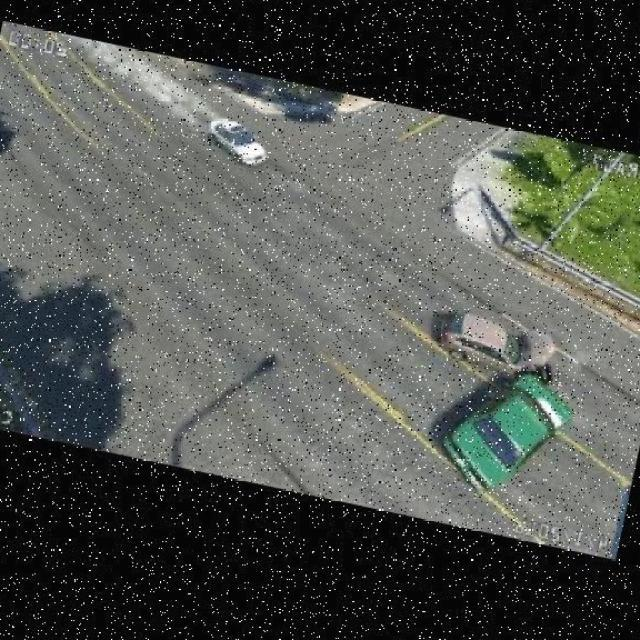accident: (401, 293, 590, 497)
